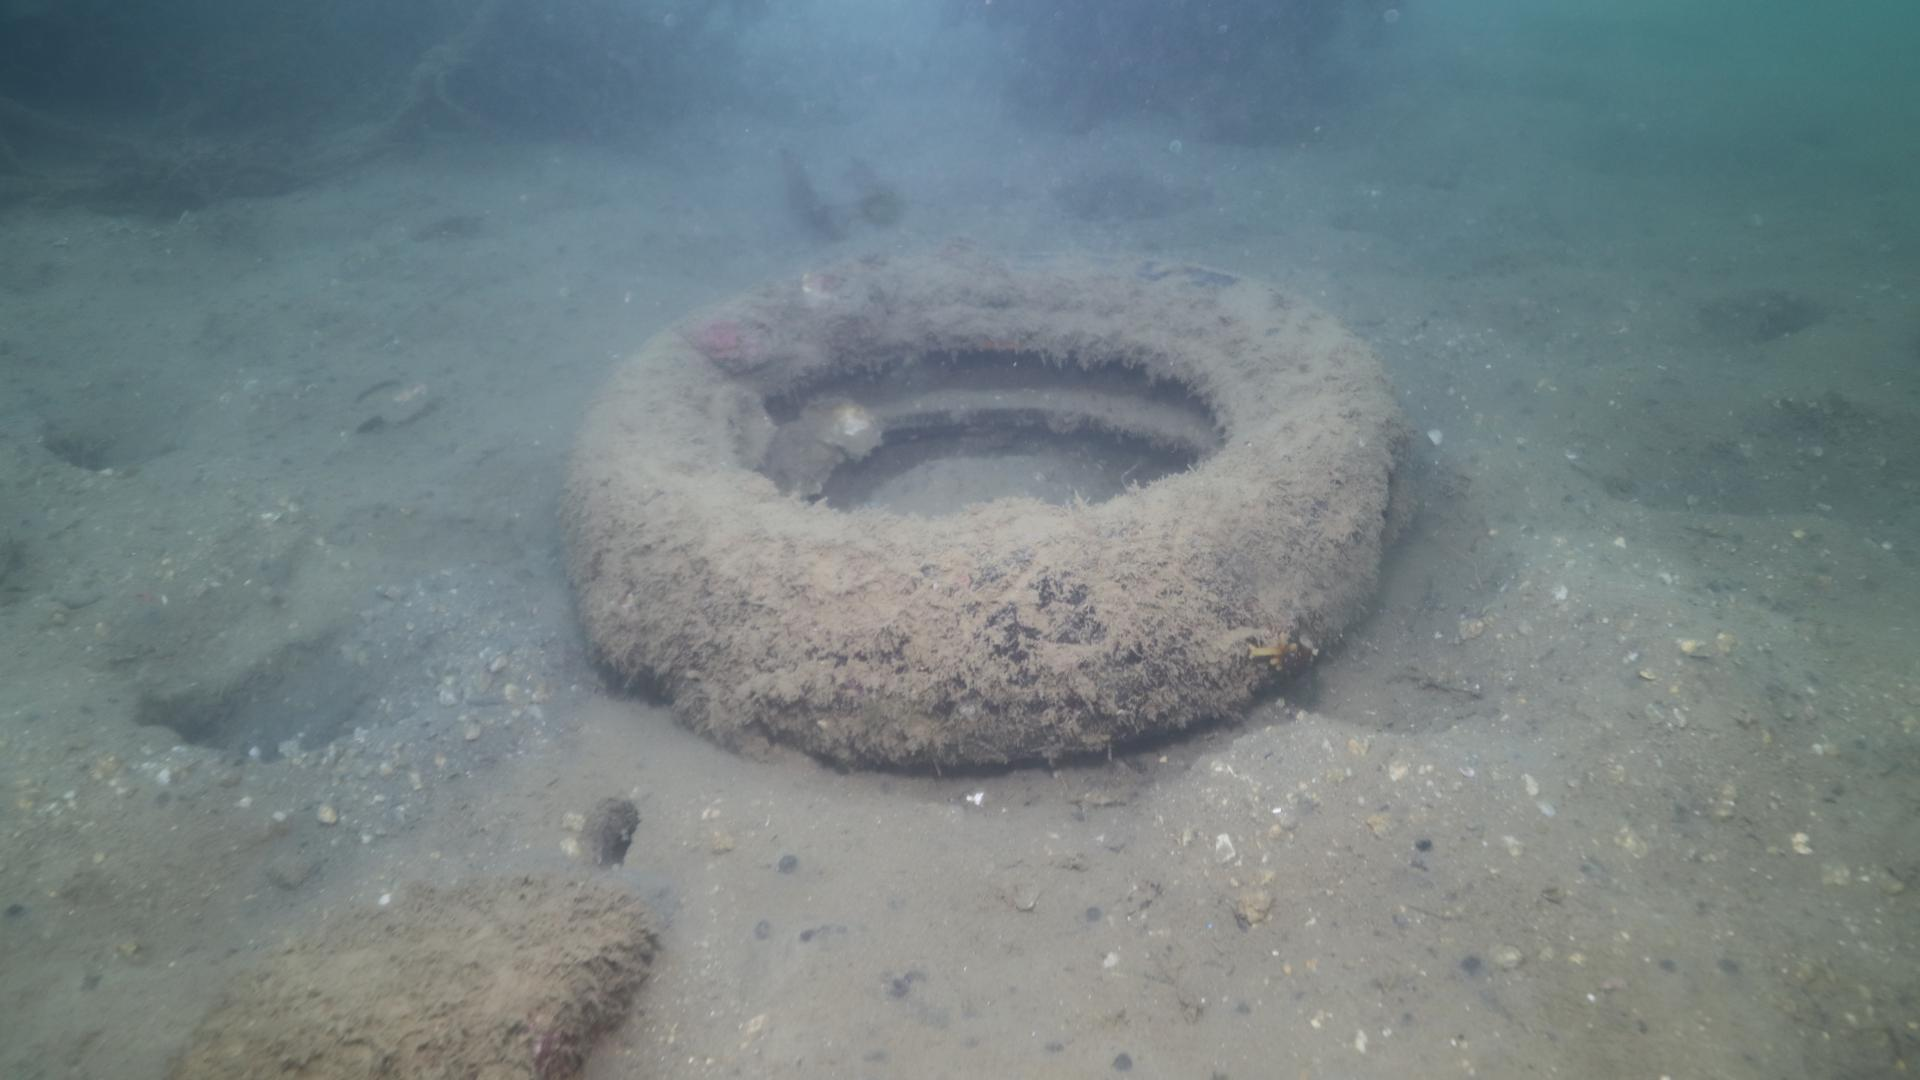tire: (560, 247, 1391, 773)
